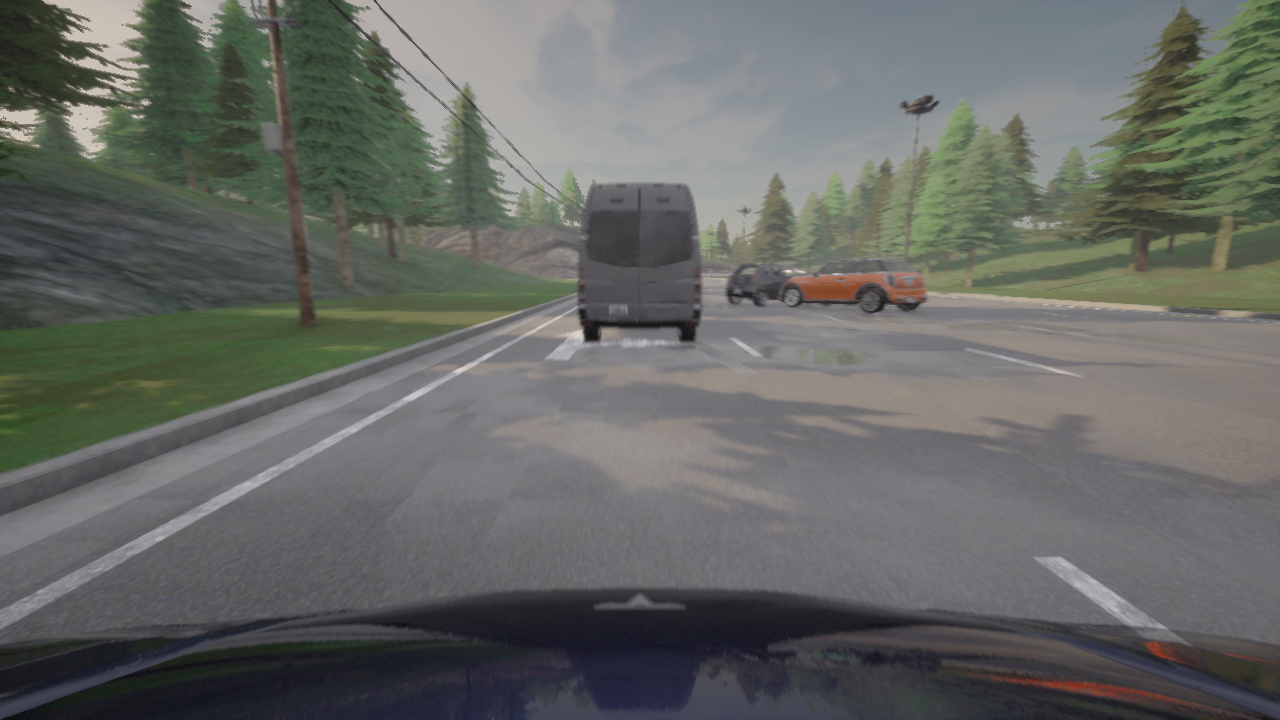cyclist: (0, 588, 1279, 719), (578, 183, 701, 342), (780, 254, 926, 313), (726, 265, 800, 306), (794, 270, 806, 275)
